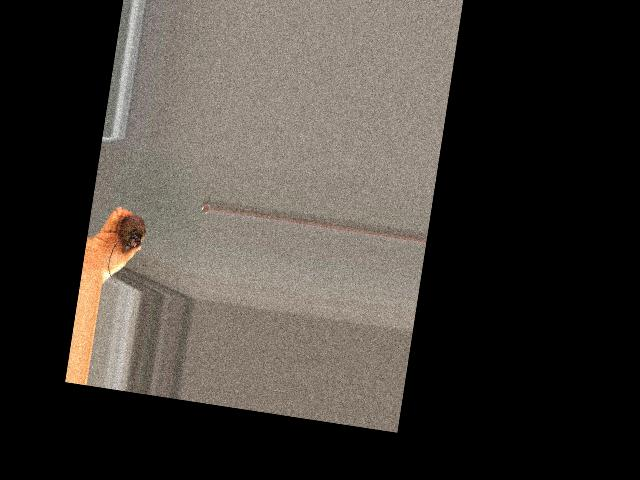beet: (105, 203, 148, 284)
